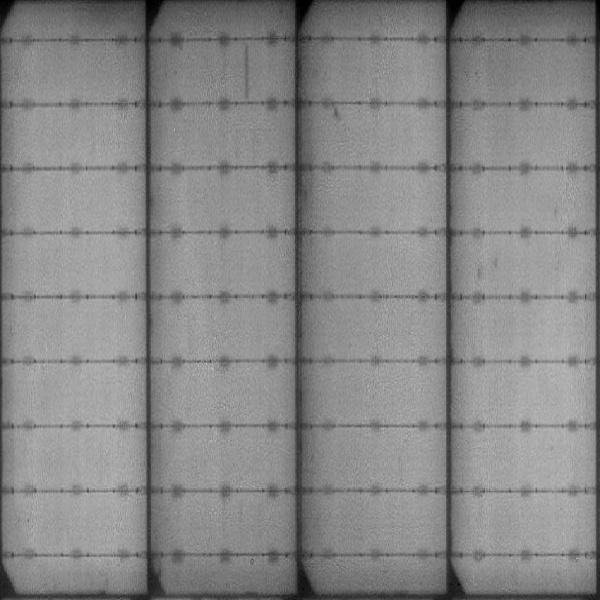scratch: (238, 44, 256, 97)
